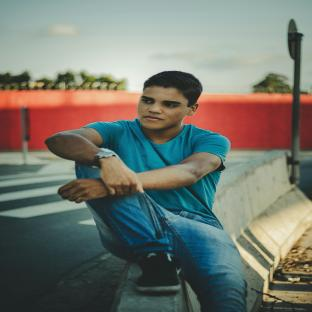Human: (46, 71, 247, 312)
